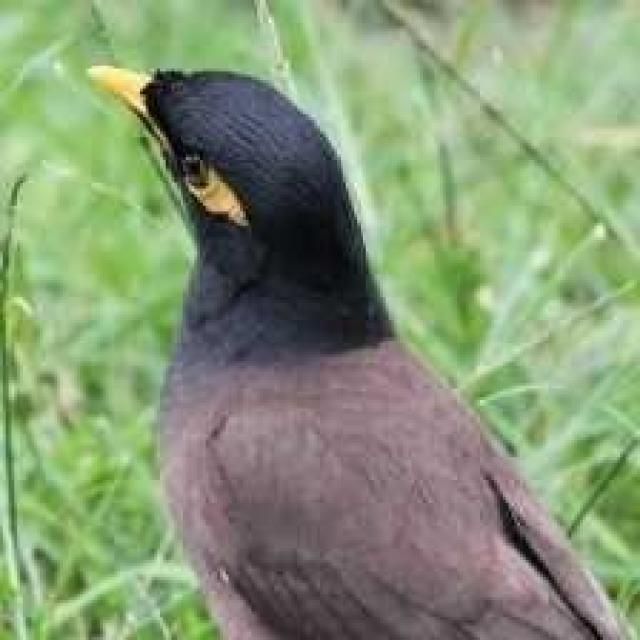bird: (77, 51, 636, 640)
